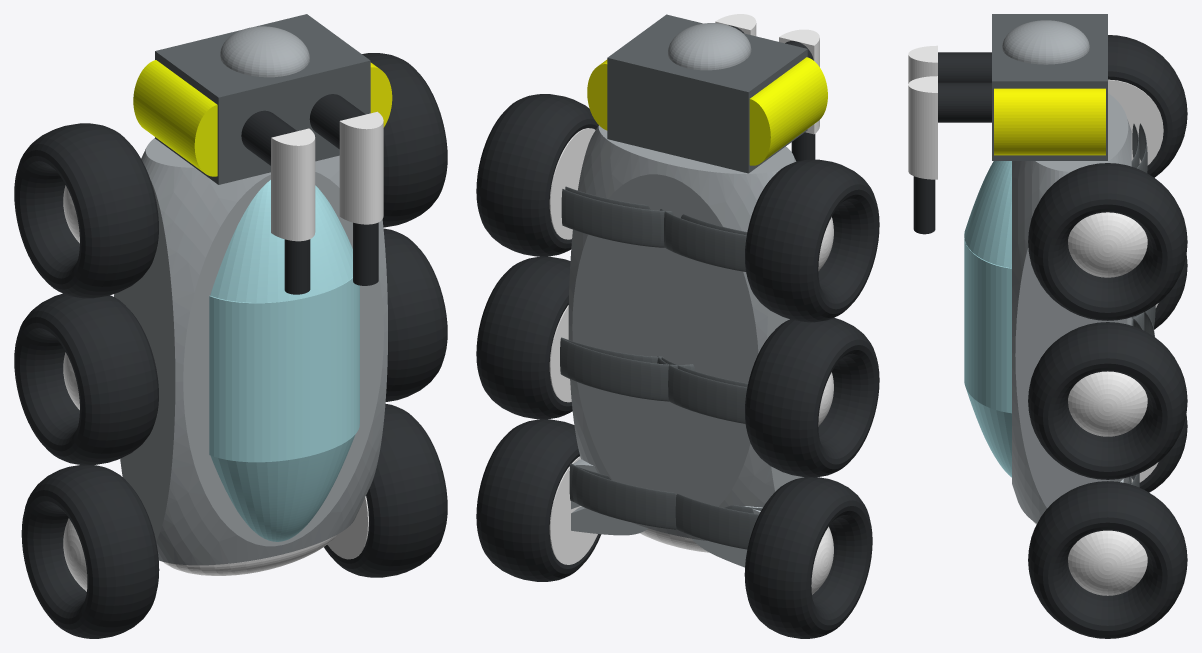
The model's file is tinker.obj.
3 renders of one model, left to right at view 1: azimuth 30°, elevation 25°; view 2: azimuth 150°, elevation 25°; view 3: azimuth 270°, elevation 25°, orthographic. The views are drawn at different scales.
Parts seen in each view (by area): view 1: obj_0, obj_1, obj_5, obj_7, obj_9, obj_29, obj_11, obj_2, obj_15, obj_13, obj_3, obj_39 (+11 smaller); view 2: obj_0, obj_29, obj_5, obj_7, obj_9, obj_15, obj_11, obj_13, obj_39, obj_23, obj_19, obj_27 (+14 smaller); view 3: obj_15, obj_11, obj_13, obj_0, obj_40, obj_1, obj_29, obj_5, obj_14, obj_12, obj_10, obj_2 (+10 smaller).
Part boxes in pixels (x1=…): obj_0: x1=114, y1=138, x2=387, y2=565; obj_1: x1=209, y1=277, x2=359, y2=462; obj_5: x1=14, y1=123, x2=158, y2=298; obj_7: x1=14, y1=293, x2=158, y2=465; obj_9: x1=21, y1=465, x2=159, y2=638; obj_29: x1=155, y1=14, x2=370, y2=184; obj_11: x1=324, y1=403, x2=447, y2=577; obj_2: x1=210, y1=180, x2=352, y2=302; obj_15: x1=362, y1=53, x2=447, y2=227; obj_13: x1=383, y1=228, x2=447, y2=401; obj_3: x1=210, y1=435, x2=354, y2=541; obj_39: x1=133, y1=60, x2=217, y2=176; obj_0: x1=568, y1=125, x2=803, y2=540; obj_29: x1=607, y1=14, x2=807, y2=173; obj_5: x1=745, y1=159, x2=879, y2=322; obj_7: x1=745, y1=317, x2=879, y2=477; obj_9: x1=744, y1=477, x2=872, y2=638; obj_15: x1=476, y1=94, x2=598, y2=256; obj_11: x1=476, y1=419, x2=601, y2=581; obj_13: x1=476, y1=256, x2=572, y2=419; obj_39: x1=749, y1=57, x2=827, y2=165; obj_23: x1=560, y1=337, x2=695, y2=401; obj_19: x1=570, y1=463, x2=676, y2=529; obj_27: x1=561, y1=189, x2=673, y2=247; obj_15: x1=1028, y1=163, x2=1187, y2=320; obj_11: x1=1028, y1=481, x2=1187, y2=638; obj_13: x1=1028, y1=322, x2=1187, y2=479; obj_0: x1=1012, y1=93, x2=1131, y2=523; obj_40: x1=994, y1=88, x2=1105, y2=155; obj_1: x1=964, y1=233, x2=1011, y2=413; obj_29: x1=992, y1=14, x2=1107, y2=160; obj_5: x1=1108, y1=35, x2=1187, y2=177; obj_14: x1=1068, y1=212, x2=1147, y2=277; obj_12: x1=1068, y1=371, x2=1147, y2=436; obj_10: x1=1068, y1=530, x2=1147, y2=595; obj_2: x1=964, y1=161, x2=1011, y2=268.
Size of the model in its own units: 48 by 75 by 35.
